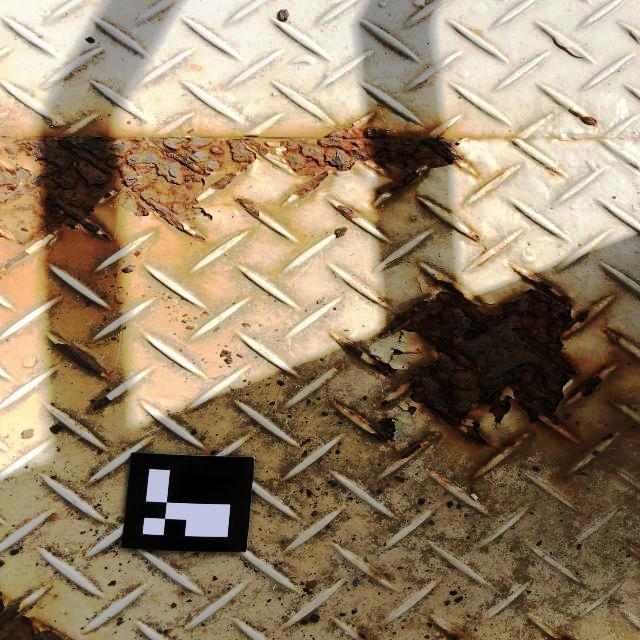Corrosion: (0, 125, 478, 283), (328, 268, 626, 474), (0, 587, 86, 640), (428, 198, 485, 245), (335, 399, 395, 441), (59, 343, 104, 373), (389, 435, 436, 463), (233, 194, 280, 221), (352, 278, 385, 304), (477, 241, 510, 267), (473, 171, 507, 195), (331, 205, 364, 221), (92, 394, 113, 413), (545, 631, 575, 640), (580, 113, 599, 126), (331, 226, 347, 239), (446, 629, 464, 640), (369, 569, 381, 579), (611, 398, 623, 408), (356, 632, 367, 640), (481, 248, 491, 255)
